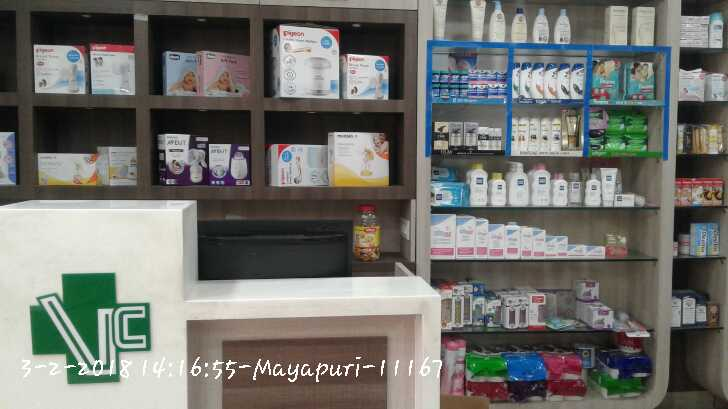vicks: (430, 66, 510, 100)
